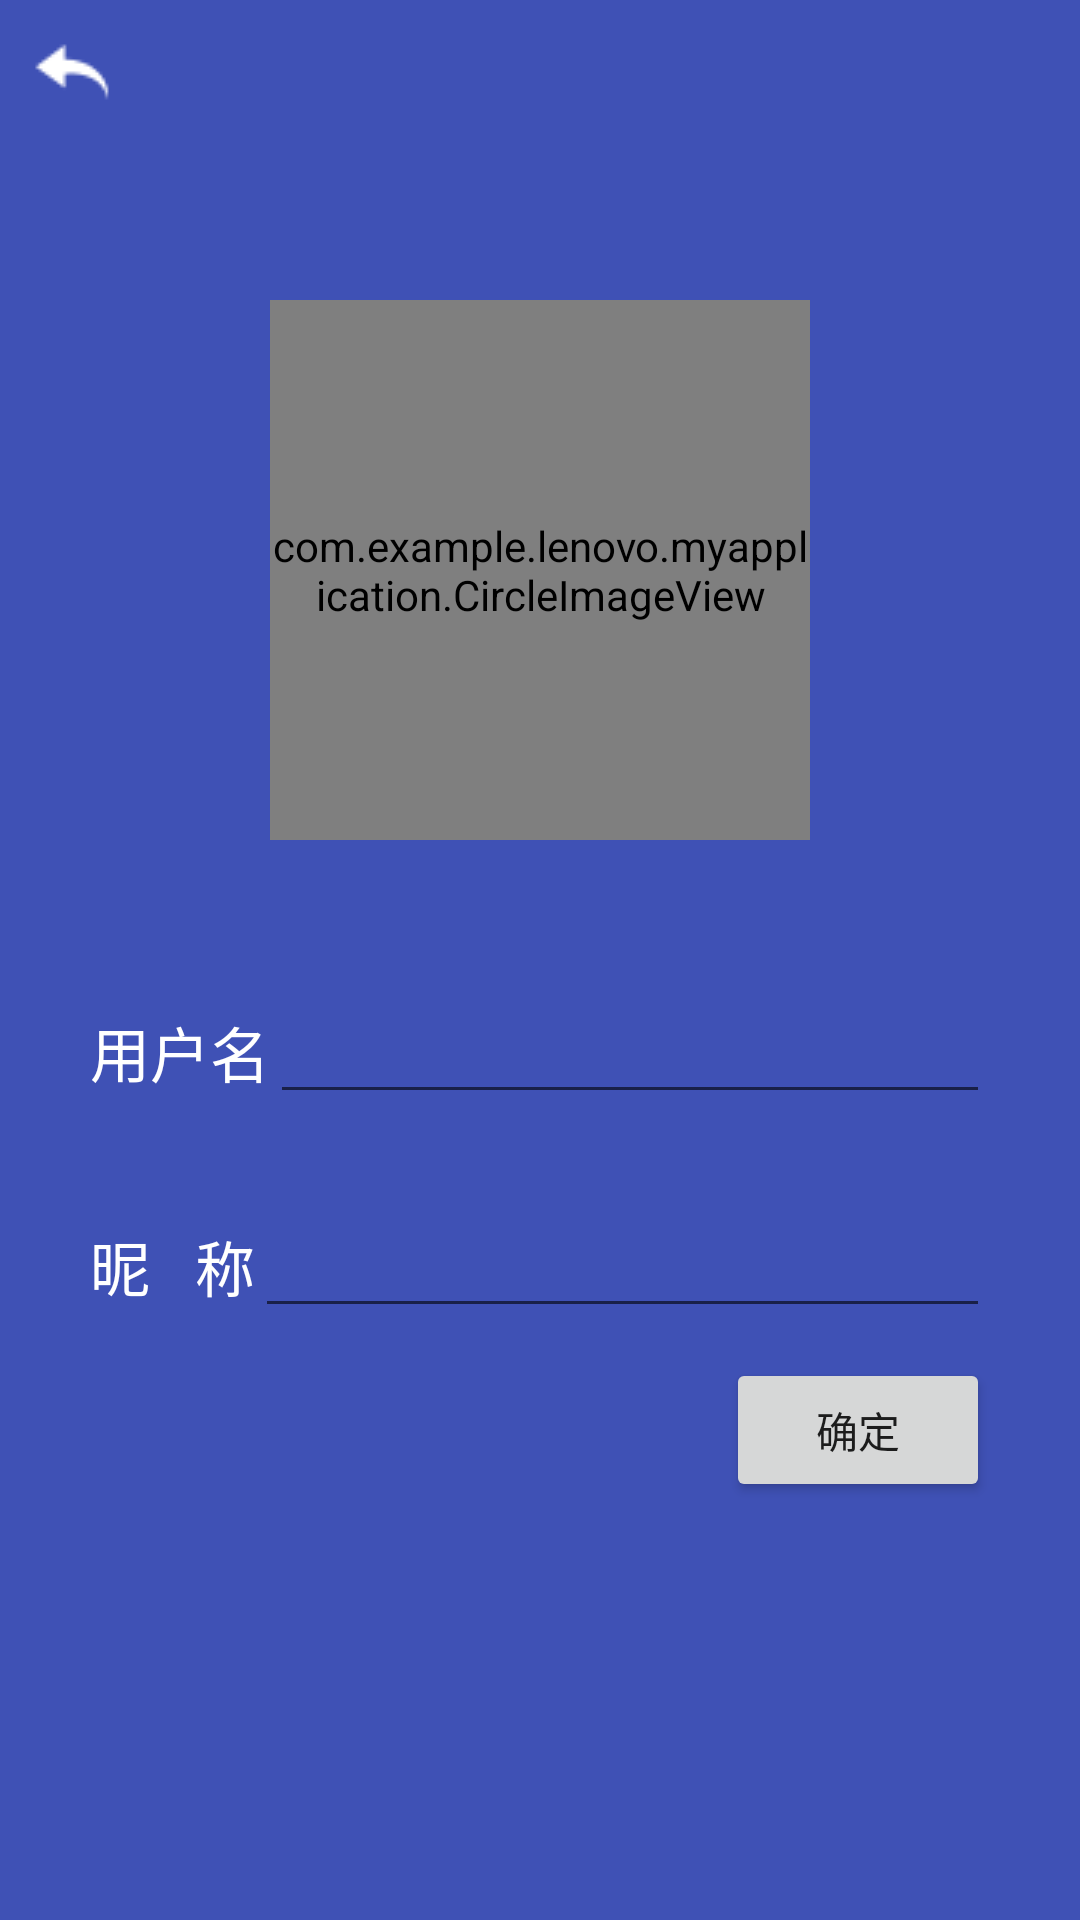

Icons on this 1080×1920 Android screen, each with the point to tap as (x=x, y=y):
back: (x=72, y=71)
